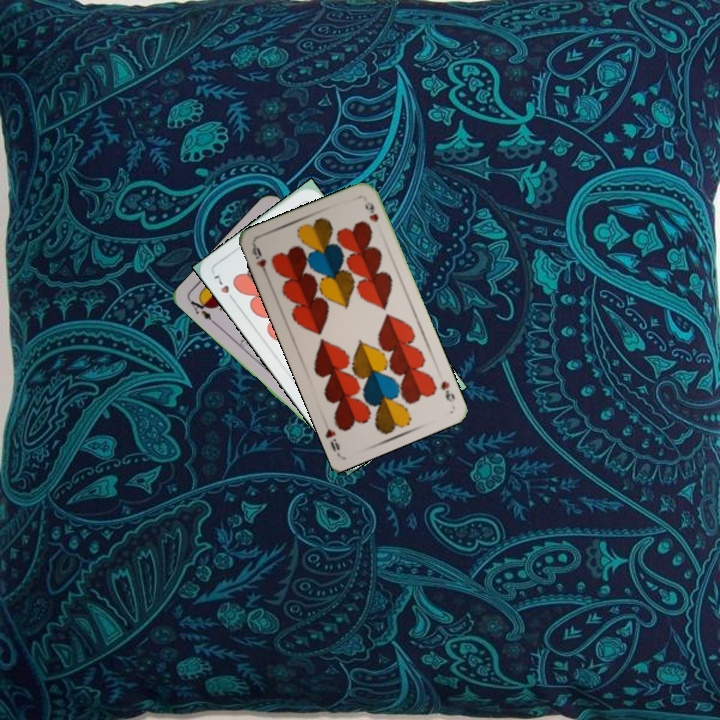EA: (185, 293, 219, 327)
H7: (209, 271, 238, 305)
H9: (248, 242, 271, 281), (436, 377, 458, 404)
